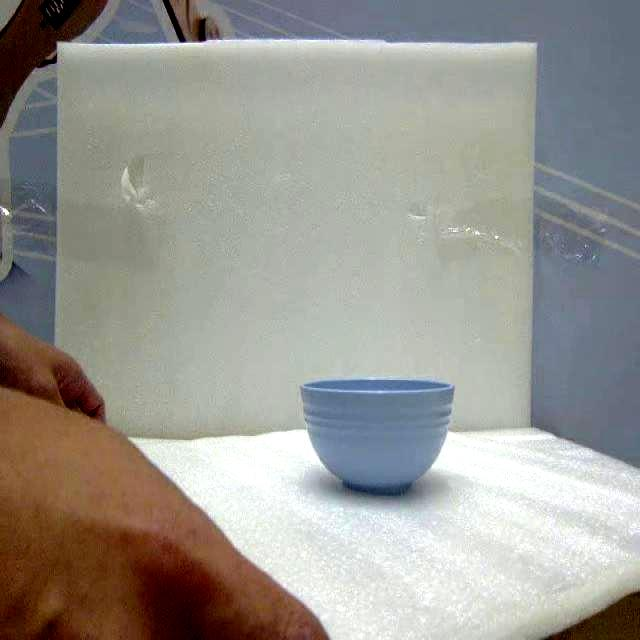Bowl: (301, 379, 453, 493)
